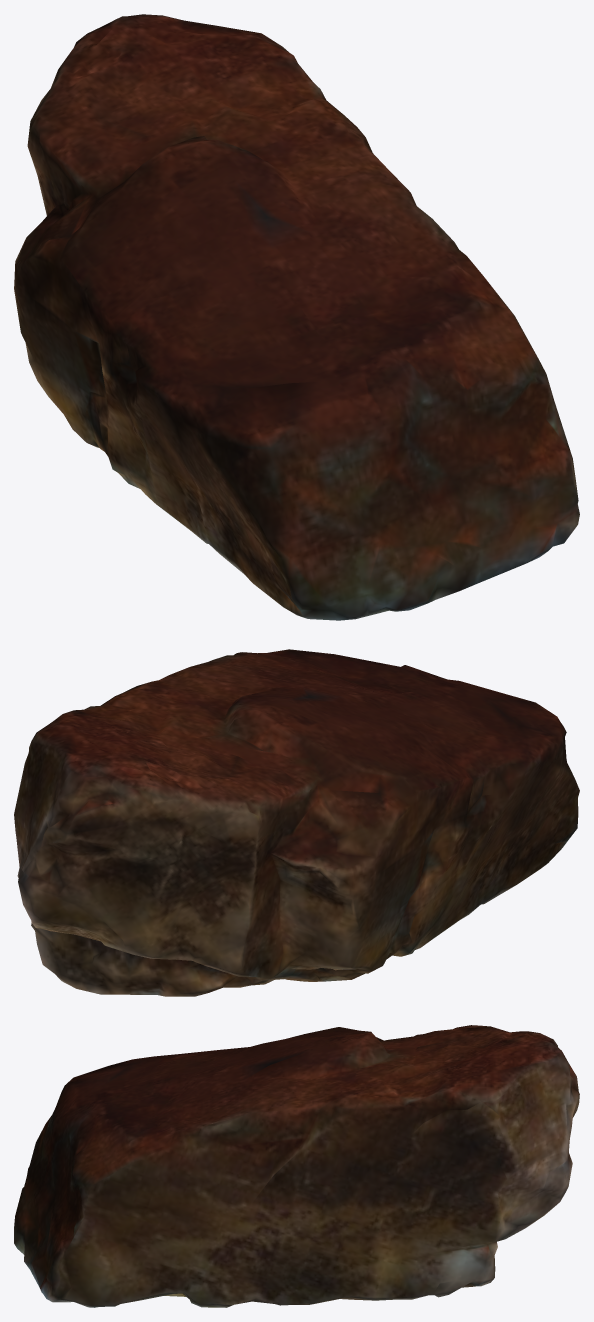
The model's file is rock_07.glb.
The picture shows the model from 3 angles, top to bottom: view 1: azimuth 30°, elevation 25°; view 2: azimuth 150°, elevation 25°; view 3: azimuth 270°, elevation 25°; orthographic projection. The views are drawn at different scales.
Parts seen in each view (by area): view 1: rock_07; view 2: rock_07; view 3: rock_07.
Part boxes in pixels (<box>): rock_07: <box>14,14,579,620</box>; rock_07: <box>14,649,579,996</box>; rock_07: <box>14,1025,579,1307</box>.
Bounding box in the file's own units: 0.1681 × 0.1437 × 0.3199.
Materials: 1 (1 with a texture image).
